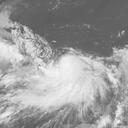cyclone: (41, 53, 99, 105)
